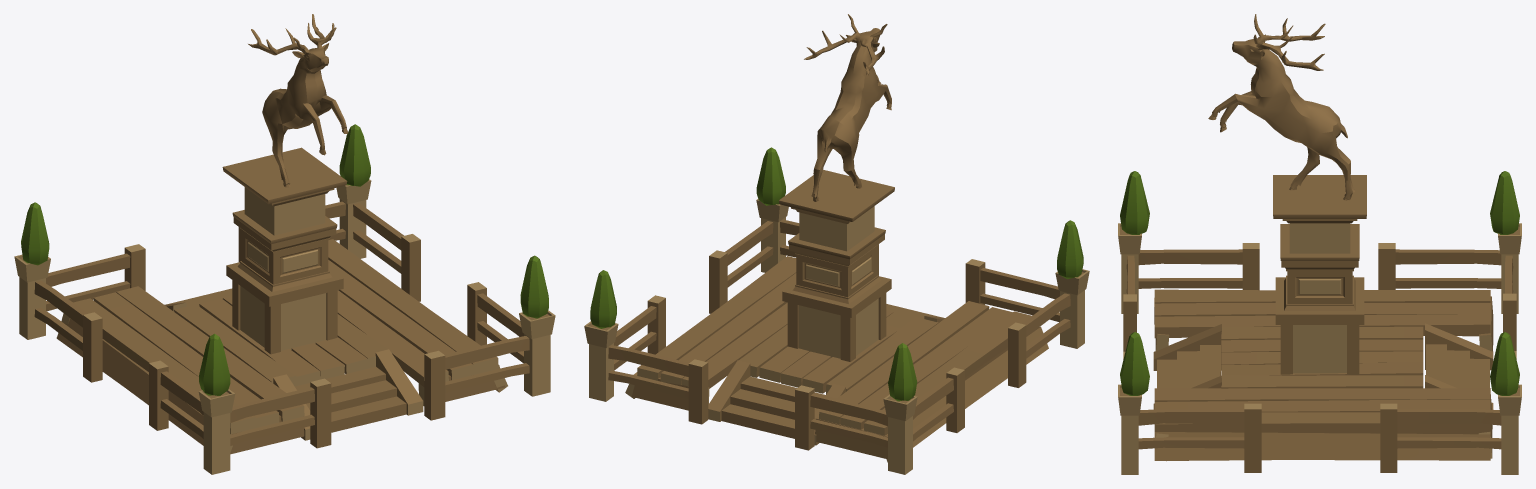
The model's file is animals-town-center-198.glb.
3 views of the same model, side by side, from view 1: azimuth 30°, elevation 25°; view 2: azimuth 150°, elevation 25°; view 3: azimuth 270°, elevation 25° (orthographic). The views are drawn at different scales.
Parts seen in each view (by area): view 1: TownCenter_FirstAge_Level3; view 2: TownCenter_FirstAge_Level3; view 3: TownCenter_FirstAge_Level3.
Part boxes in pixels (<box>): TownCenter_FirstAge_Level3: <box>14,14,555,474</box>; TownCenter_FirstAge_Level3: <box>584,14,1089,474</box>; TownCenter_FirstAge_Level3: <box>1118,14,1521,474</box>.
Bounding box in the file's own units: 1.26 × 1.25 × 1.24.
